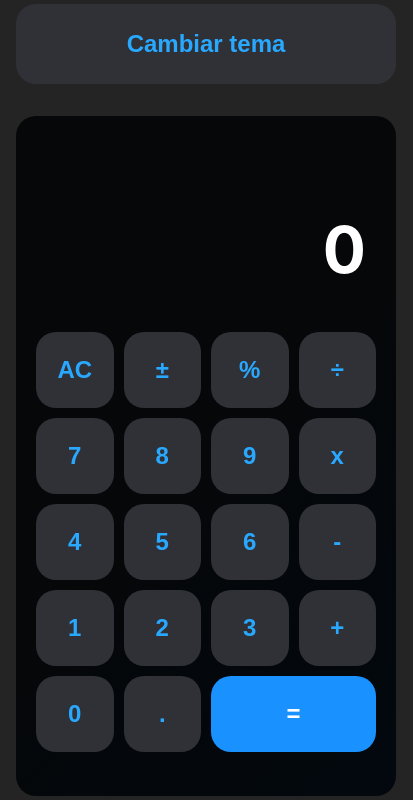
Componente Calculator › Realiza la multiplicacion correctamente
This screenshot has width=413, height=800.
What coordinates should you click on to do the following:
click the button "2"
I would click on:
 (162, 628)
Its box is left=124, top=590, right=201, bottom=666.
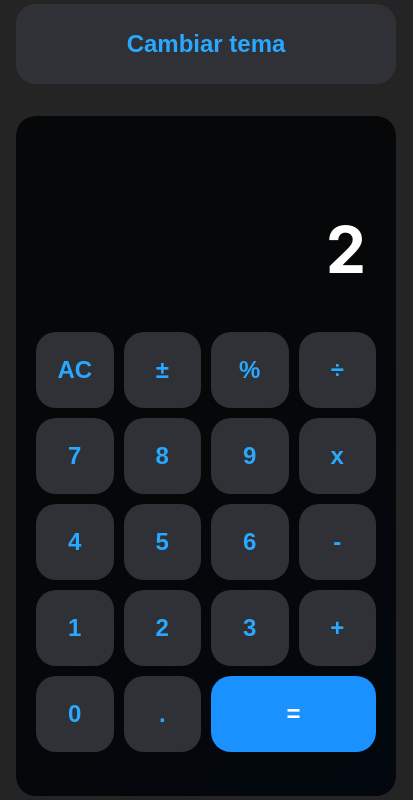
What coordinates should you click on to do the following:
click the button "x"
I would click on:
 (337, 456)
Its box is left=298, top=418, right=376, bottom=494.
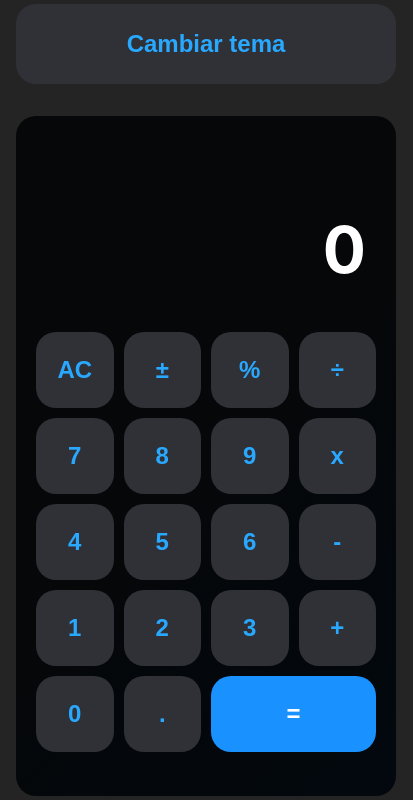
What coordinates should you click on to do the following:
click the button "5"
I would click on:
 (162, 542)
Its box is left=124, top=504, right=201, bottom=580.
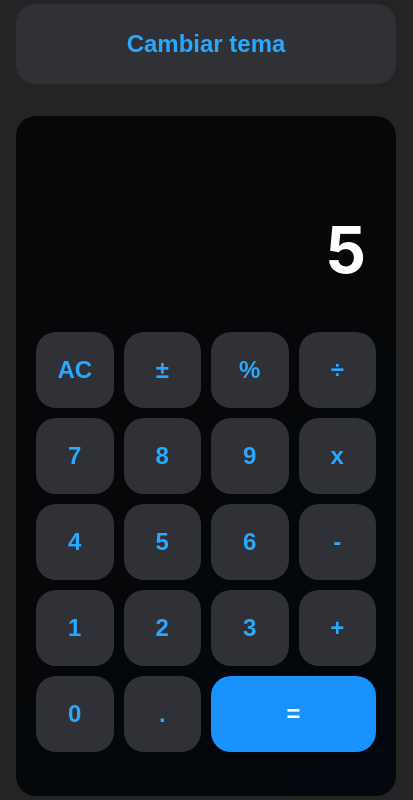
What coordinates should you click on to do the following:
click the button "="
I would click on:
 (294, 714)
Its box is left=211, top=676, right=376, bottom=752.
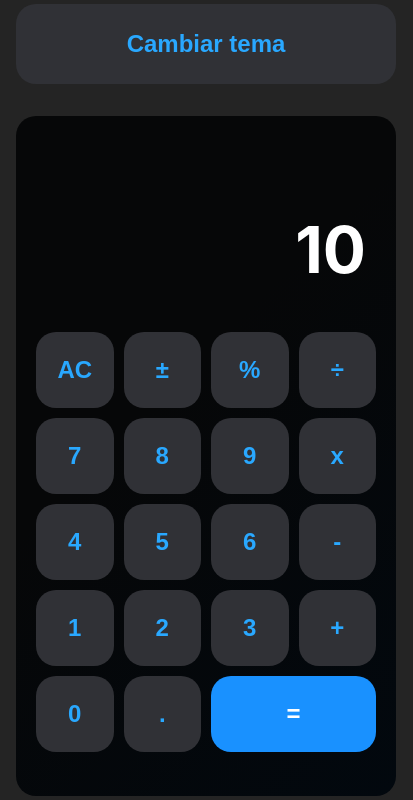
Expected: the text "0" reads "10", left=295, top=211, right=366, bottom=288
